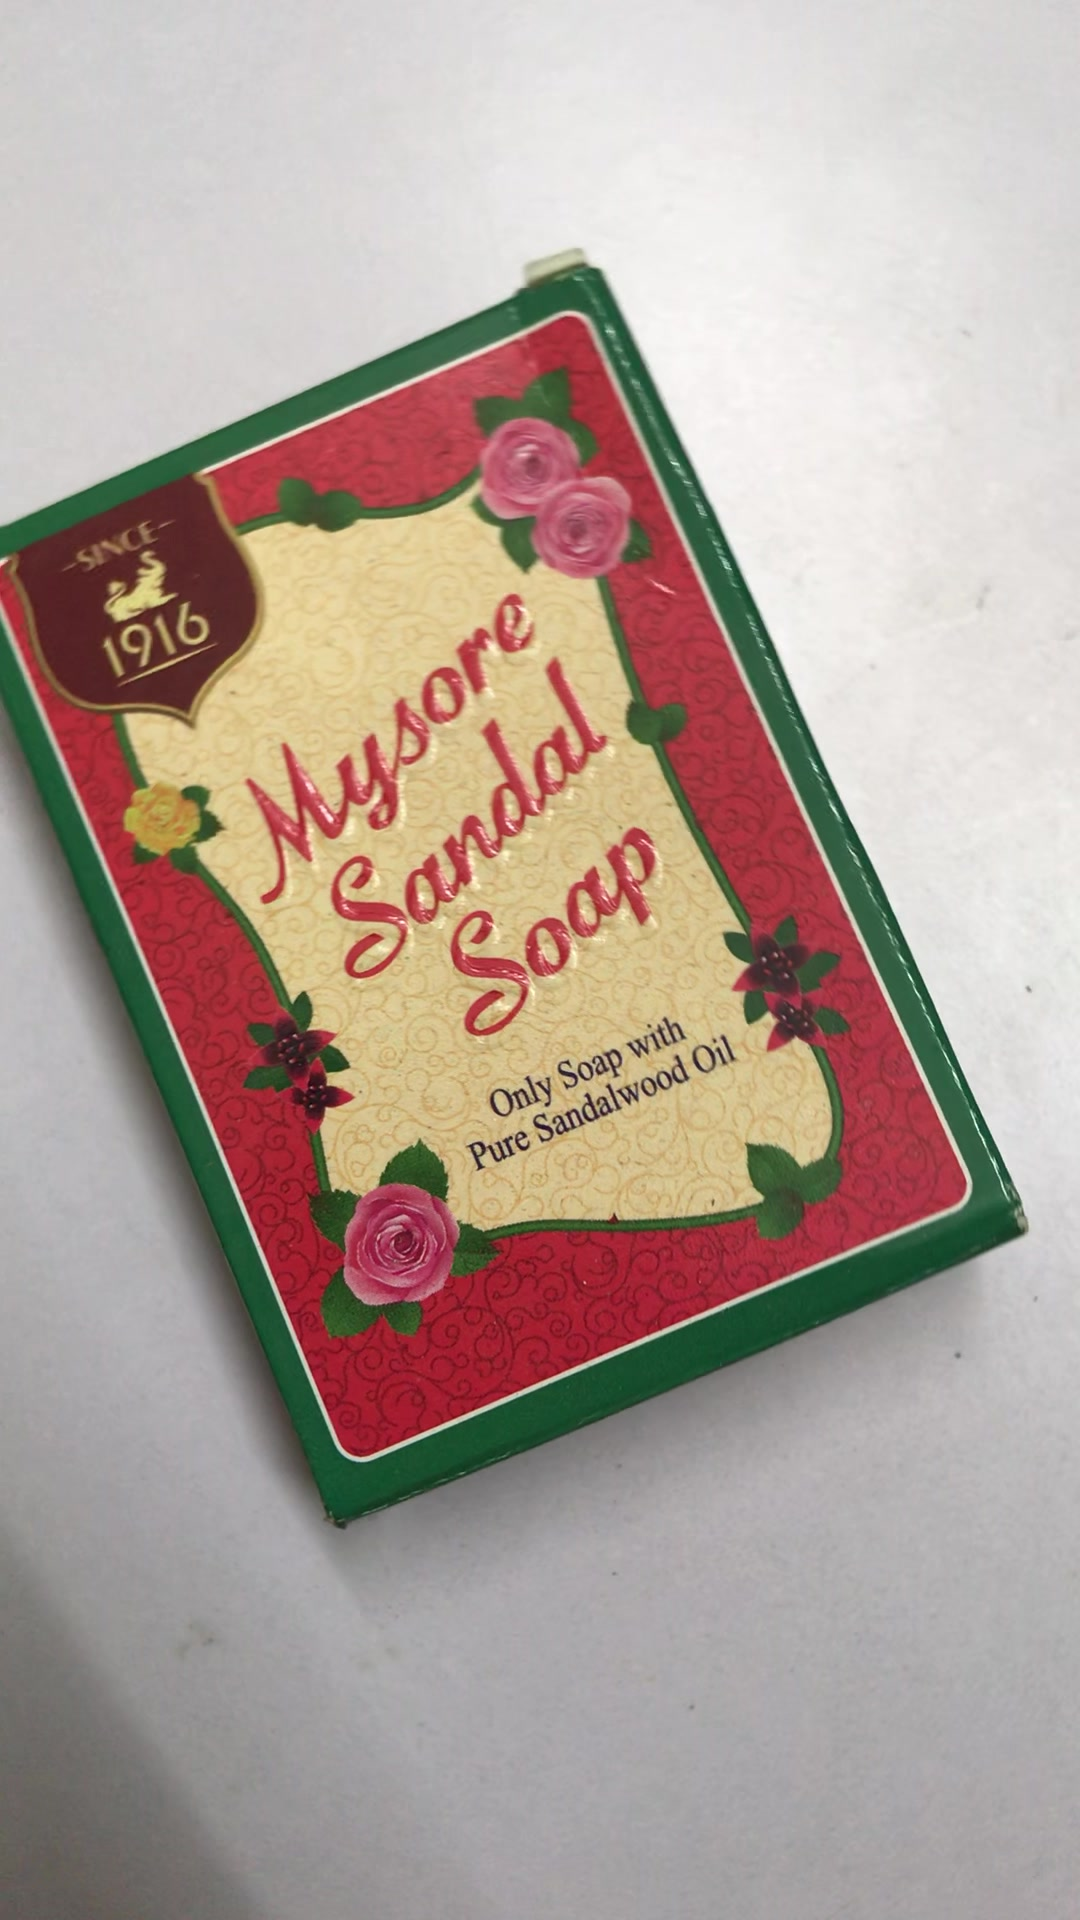mysore sandal soap: (5, 272, 1030, 1524)
